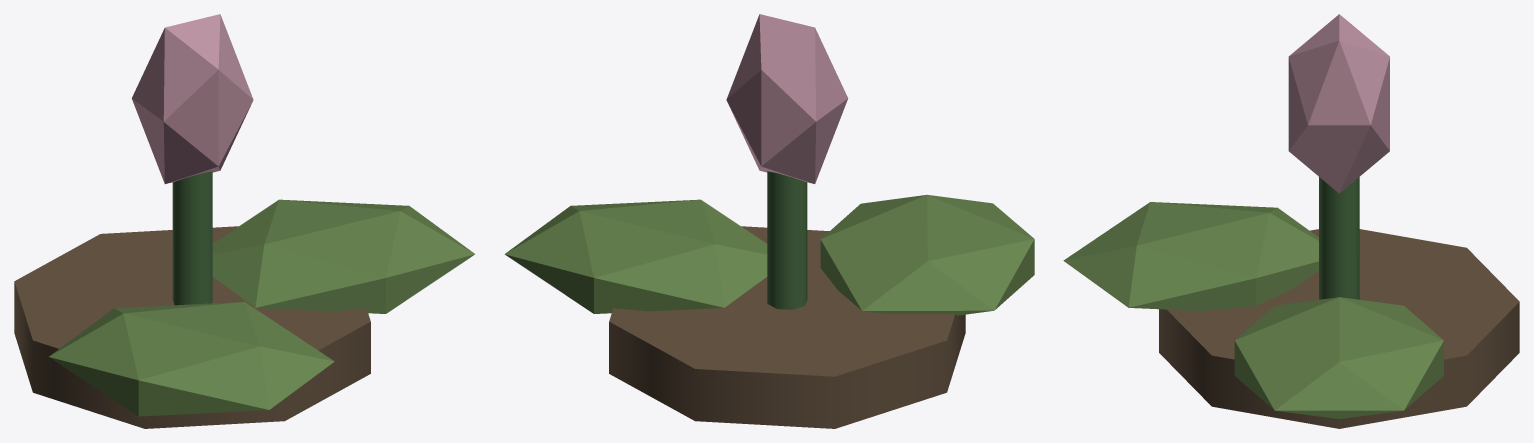
The model's file is plant-lotus-1.glb.
3 renders of one model, left to right at view 1: azimuth 30°, elevation 25°; view 2: azimuth 150°, elevation 25°; view 3: azimuth 270°, elevation 25°, orthographic. The views are drawn at different scales.
Parts seen in each view (by area): view 1: plant-lotus-1-visual; view 2: plant-lotus-1-visual; view 3: plant-lotus-1-visual.
Part boxes in pixels (x1,y1,x2,y2): plant-lotus-1-visual: [14, 14, 474, 428]; plant-lotus-1-visual: [504, 14, 1034, 428]; plant-lotus-1-visual: [1063, 14, 1519, 428].
Bounding box in the file's own units: 0.426 × 0.3186 × 0.4049.
